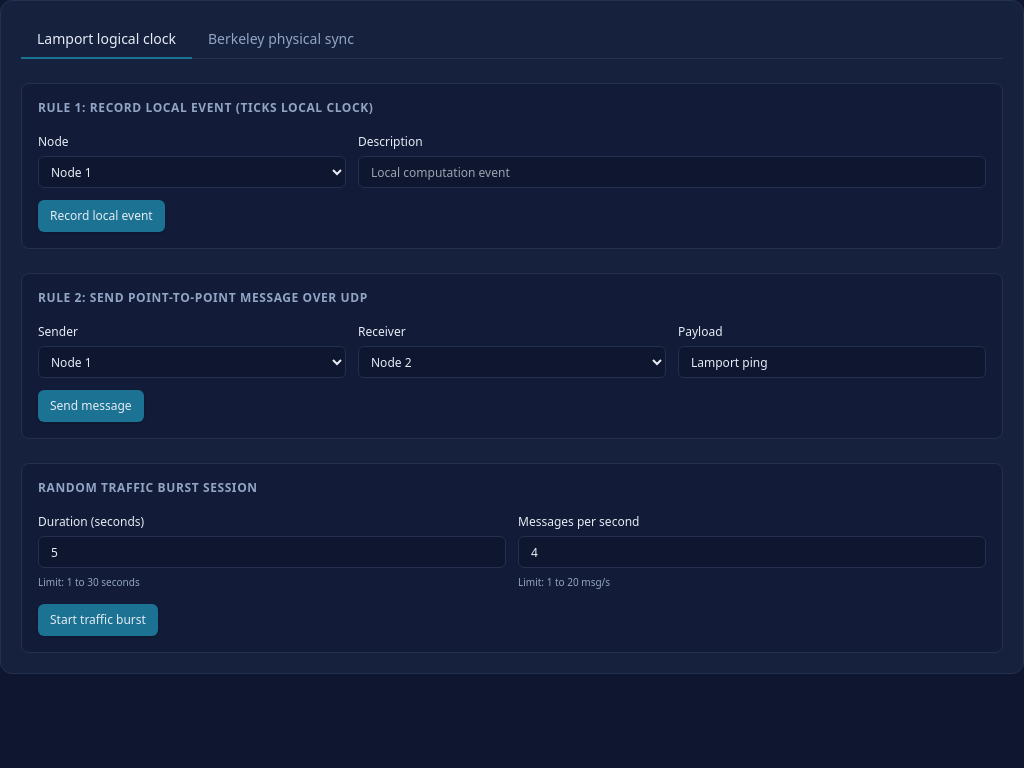
Test: ClockSyncControls › submits a message and shows delivery status with focus transfer
The width and height of the screenshot is (1024, 768).
Click the button "Send message": click(91, 406) [38, 390, 144, 422]
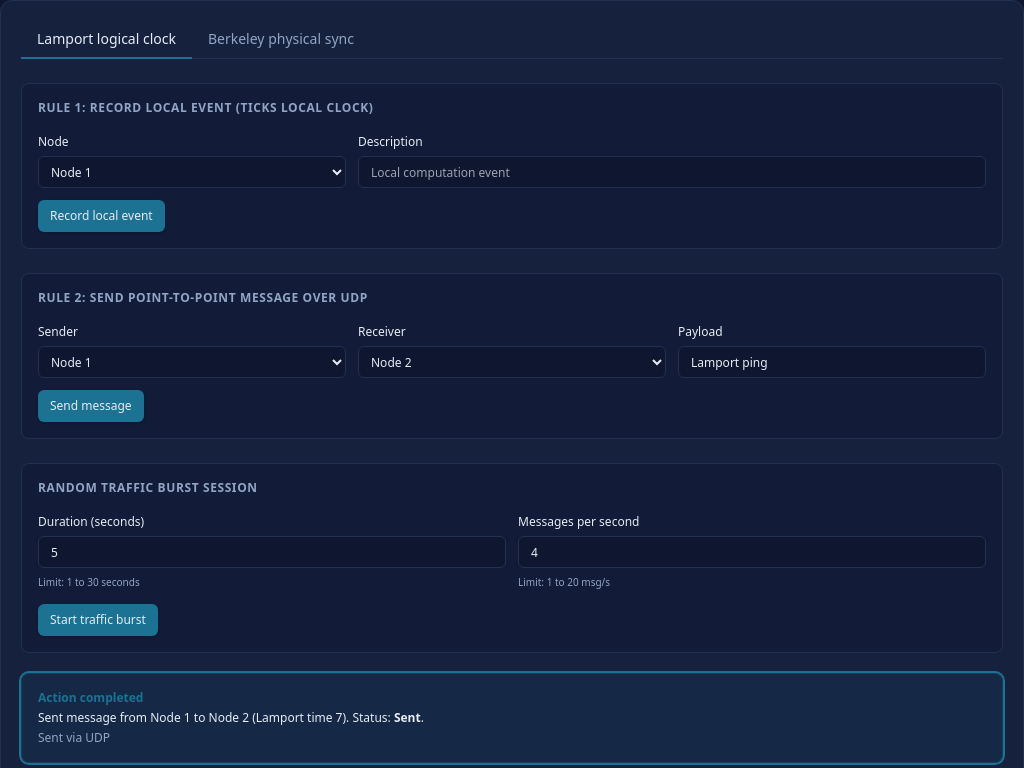
Check: the element with test id "action-result" shows "Sent message from Node 1 to Node 2", box [21, 673, 1003, 763]
